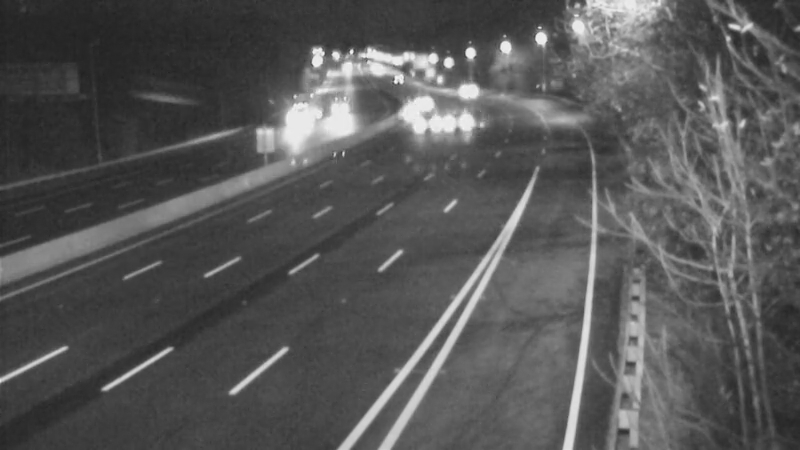vehicle: (371, 53, 421, 103), (440, 66, 490, 116), (397, 77, 447, 127), (389, 86, 439, 136), (436, 94, 486, 144), (402, 99, 452, 149), (271, 95, 321, 145), (313, 82, 363, 132)
